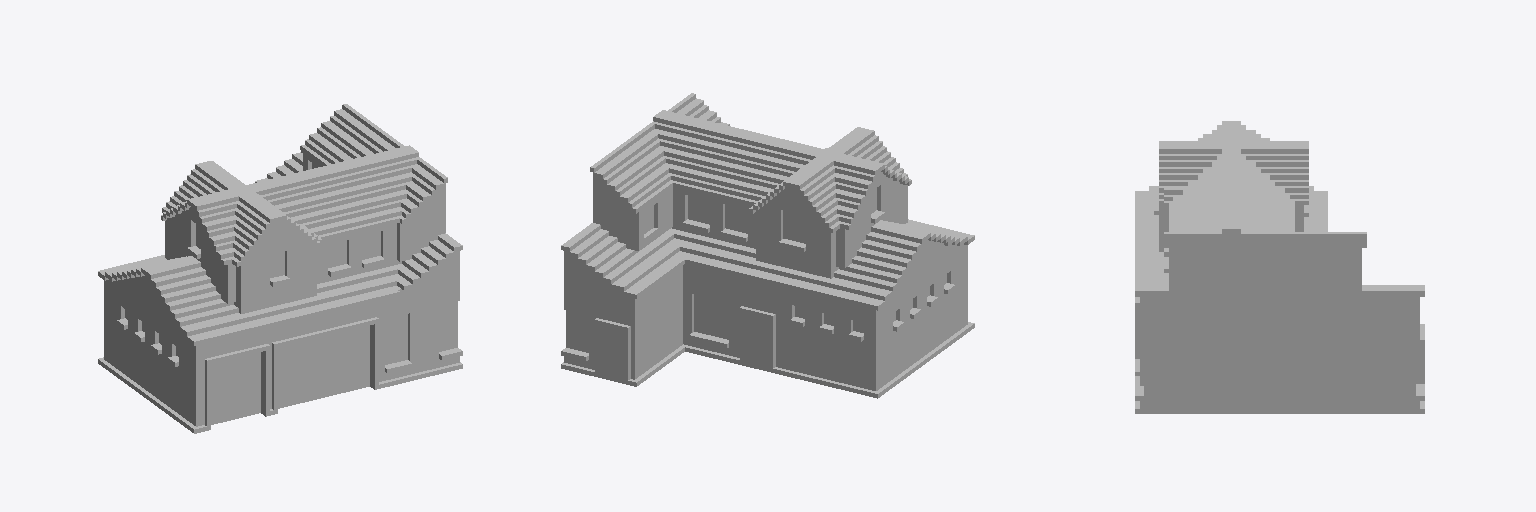
Rendered from redHouse.obj.
3 renders of one model, left to right at view 1: azimuth 30°, elevation 25°; view 2: azimuth 150°, elevation 25°; view 3: azimuth 270°, elevation 25°, orthographic.
Visible parts, largest first — view 1: object 1; view 2: object 1; view 3: object 1.
Part boxes in pixels (x1,y1,x2,y2): object 1: (98,104,462,433); object 1: (561,93,974,398); object 1: (1135,121,1424,413).
Bounding box in the file's own units: 25.6 × 16.8 × 24.